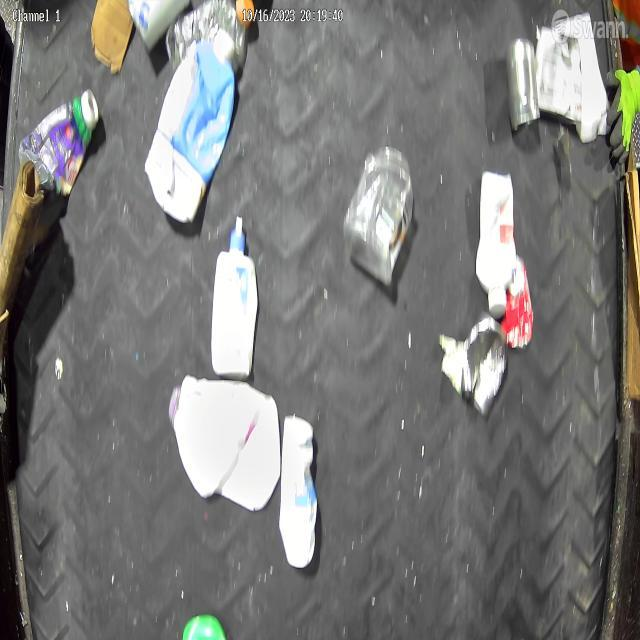can: (446, 311, 510, 417), (507, 25, 540, 138), (506, 250, 534, 368)
milk_jug: (170, 363, 270, 506)
plastic_bottle: (166, 0, 249, 80)
